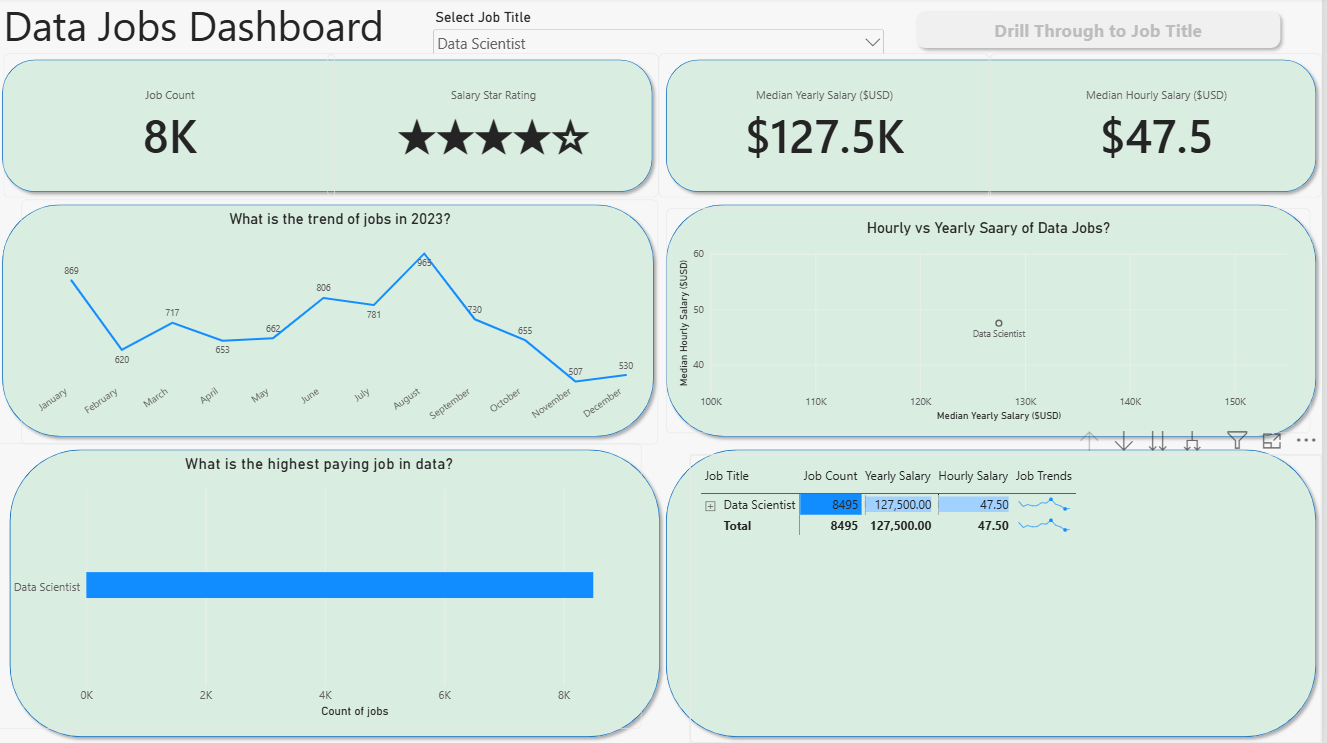

The dashboard page shown, as its layout file describes it:
{"tool":"powerbi","page":{"name":"Data Jobs Dashboard","canvas":[1920,1080],"ordinal":0},"visuals":[{"type":"shape","box":[0,82.3,959.2,209.9],"z":0,"group":"g1"},{"type":"group","id":"g1","title":"BackGround","box":[0,82.3,1920.4,998.3],"z":0},{"type":"textbox","box":[10.3,0,586.6,107],"z":1000},{"type":"shape","box":[961.2,82.3,959.2,209.9],"z":1000,"group":"g1"},{"type":"slicer","title":"DSfbf","fields":{"Values":["Data.job_title_short"]},"box":[627.8,16.5,662.8,65.9],"z":2000},{"type":"shape","box":[0,292.2,961.2,354],"z":2000,"group":"g1"},{"type":"cardVisual","fields":{"Data":["Median(Data.salary_year_avg)"]},"box":[959.2,82.3,479,209.9],"z":3000},{"type":"shape","box":[961.2,292.2,959.2,354],"z":3000,"group":"g1"},{"type":"cardVisual","fields":{"Data":["Median(Data.salary_hour_avg)"]},"box":[1438.8,82.3,481.6,209.9],"z":4000},{"type":"shape","box":[10.3,646.3,959.2,434.3],"z":4000,"group":"g1"},{"type":"cardVisual","fields":{"Data":["Data.Salary Star Rating"]},"box":[479.6,82.3,480,209.9],"z":5000},{"type":"shape","box":[961.2,646.3,959.2,434.3],"z":5000,"group":"g1"},{"type":"cardVisual","fields":{"Data":["CountNonNull(Data.job_title_short)"]},"box":[10.3,82.3,480,209.9],"z":6000},{"type":"barChart","title":"What is the most common data job in data?","fields":{"Category":["Data.job_title_short"],"Y":["CountNonNull(Data.job_title_short)"]},"box":[0,646.3,934.5,413.7],"z":7000},{"type":"lineChart","title":"What is the trend of jobs in 2023?","fields":{"Category":["Data.job_posted_date.Variation.Date Hierarchy.Year","Data.job_posted_date.Variation.Date Hierarchy.Quarter","Data.job_posted_date.Variation.Date Hierarchy.Month","Data.job_posted_date.Variation.Date Hierarchy.Day"],"Y":["CountNonNull(Data.job_title_short)"]},"box":[37,292.3,922.1,354],"z":8000},{"type":"scatterChart","title":"Hourly vs Yearly Saary of Data Jobs?","fields":{"Series":["Data.job_title_short"],"X":["Median(Data.salary_year_avg)"],"Y":["Median(Data.salary_hour_avg)"]},"box":[969.5,306.7,932.4,325.2],"z":9000},{"type":"pivotTable","fields":{"Rows":["Data.job_title_short","Data.job_posted_date.Variation.Date Hierarchy.Quarter"],"Values":["CountNonNull(Data.job_title_short)","Median(Data.salary_year_avg)","Median(Data.salary_hour_avg)","SparklineData(CountNonNull(Data.job_title_short)_[Data.job_posted_date.Variation.Date Hierarchy.Month])"]},"box":[1004.5,662.8,916,417.8],"z":10000},{"type":"actionButton","box":[1323.5,10.3,545.5,72],"z":11000}]}

Visuals, with their boxes in screenshot pixels (x1, y1, x2, y2), scaled from the page's 1920x1080 canvas onto the 1327x743 screenshot:
shape: 0:57:663:201
"BackGround" group: 0:57:1326:742
textbox: 7:0:413:74
shape: 664:57:1326:201
"DSfbf" slicer: 434:11:892:57
shape: 0:201:664:445
cardVisual - Median(Data.salary_year_avg): 663:57:994:201
shape: 664:201:1326:445
cardVisual - Median(Data.salary_hour_avg): 994:57:1326:201
shape: 7:445:670:742
cardVisual - Data.Salary Star Rating: 331:57:663:201
shape: 664:445:1326:742
cardVisual - CountNonNull(Data.job_title_short): 7:57:339:201
"What is the most common data job in data?" barChart: 0:445:646:729
"What is the trend of jobs in 2023?" lineChart: 26:201:663:445
"Hourly vs Yearly Saary of Data Jobs?" scatterChart: 670:211:1314:435
pivotTable - Data.job_title_short x Data.job_posted_date.Variation.Date Hierarchy.Quarter: 694:456:1326:742
actionButton: 915:7:1292:57
